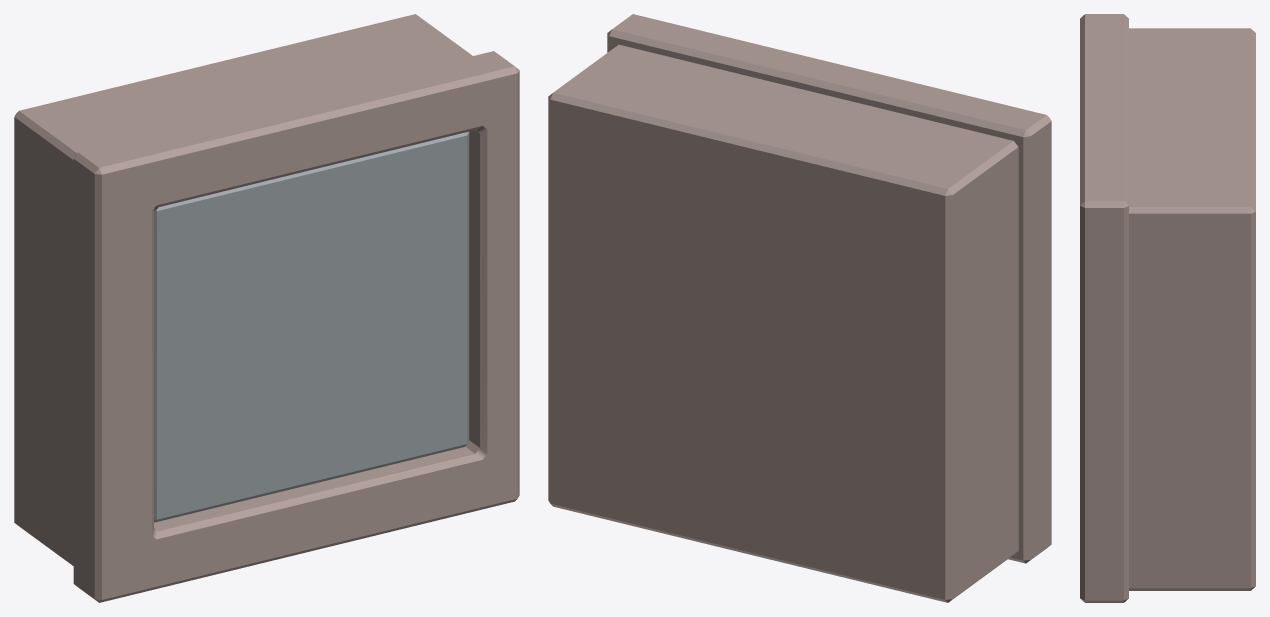
Rendered from REPISA DE BAÑO.fbx.
3 views of the same model, side by side, from view 1: azimuth 30°, elevation 25°; view 2: azimuth 150°, elevation 25°; view 3: azimuth 270°, elevation 25° (orthographic). The views are drawn at different scales.
Visible parts, largest first — view 1: repisa_con_espejo_baño; view 2: repisa_con_espejo_baño; view 3: repisa_con_espejo_baño.
Part boxes in pixels (left/top/right/bottom): repisa_con_espejo_baño: left=14, top=14, right=519, bottom=602; repisa_con_espejo_baño: left=548, top=14, right=1051, bottom=602; repisa_con_espejo_baño: left=1080, top=14, right=1255, bottom=602.
Bounding box in the file's own units: 49.72 × 48.62 × 19.29.
